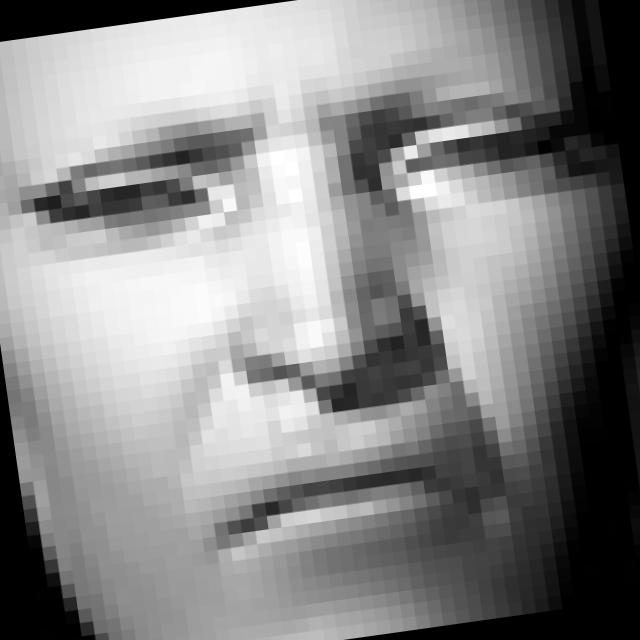disgust: (2, 42, 640, 612)
